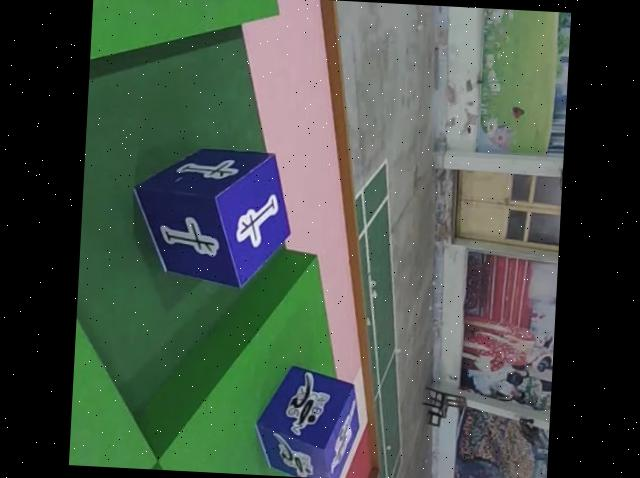R1 Blue: (249, 360, 359, 478)
R2 Real Blue: (125, 146, 293, 292)
